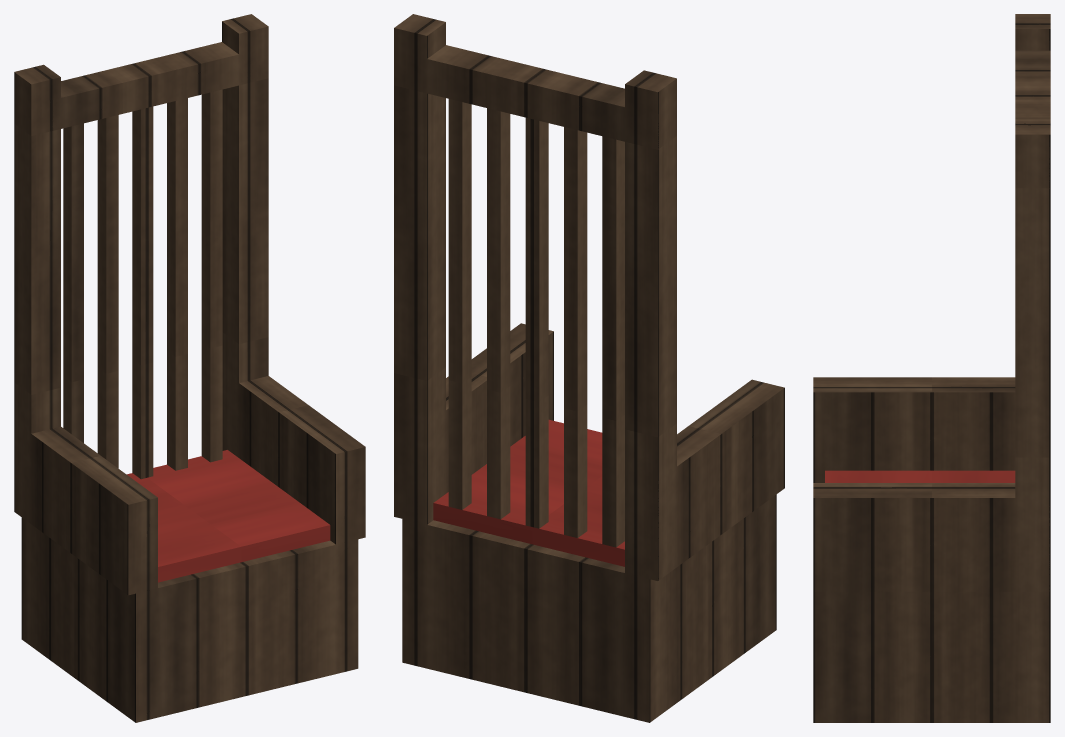
File: Throne_Wood_1.gltf
3 views of the same model, side by side, from view 1: azimuth 30°, elevation 25°; view 2: azimuth 150°, elevation 25°; view 3: azimuth 270°, elevation 25° (orthographic). The views are drawn at different scales.
Parts seen in each view (by area): view 1: Throne_Wood_1; view 2: Throne_Wood_1; view 3: Throne_Wood_1.
Part boxes in pixels (<box>): Throne_Wood_1: <box>14,14,365,722</box>; Throne_Wood_1: <box>394,14,784,722</box>; Throne_Wood_1: <box>813,14,1050,722</box>.
Bounding box in the file's own units: 0.96 × 2.2 × 0.8.
Materials: 2 (2 with a texture image).
